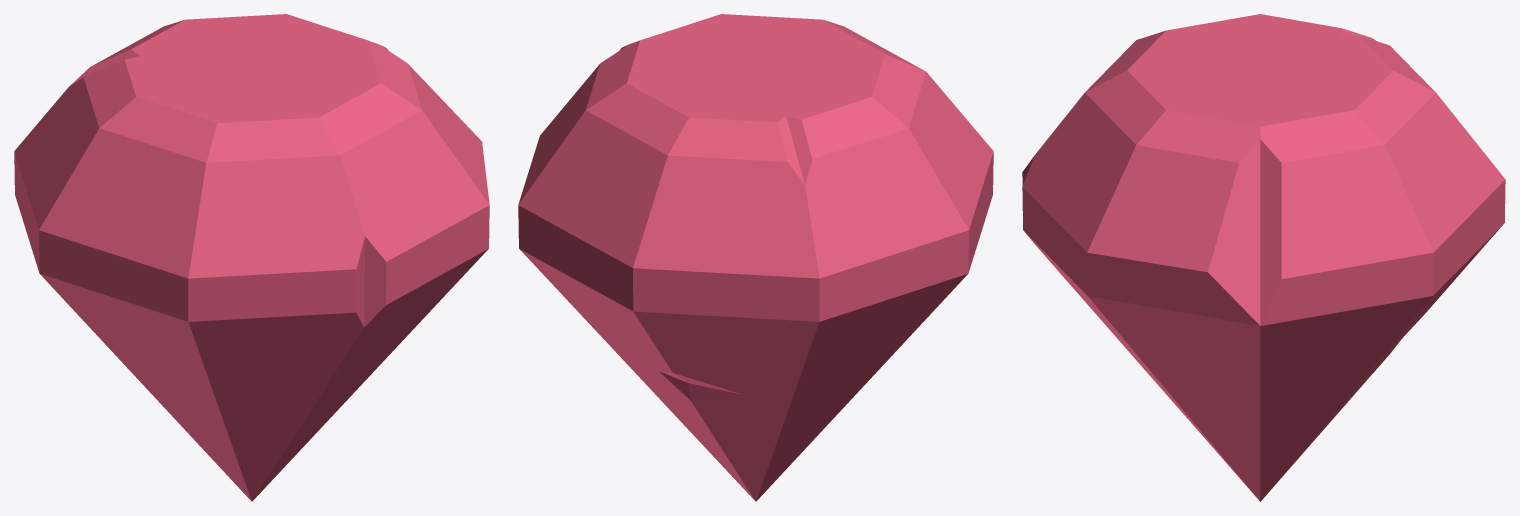
The model's file is Diamond.fbx.
3 views of the same model, side by side, from view 1: azimuth 30°, elevation 25°; view 2: azimuth 150°, elevation 25°; view 3: azimuth 270°, elevation 25° (orthographic).
Visible parts, largest first — view 1: Diamond; view 2: Diamond; view 3: Diamond.
Part boxes in pixels (box(x1,y1,x2,y2)): Diamond: box(14, 14, 489, 501); Diamond: box(518, 14, 993, 501); Diamond: box(1022, 14, 1505, 501).
Bounding box in the file's own units: 42.89 × 41.73 × 42.33.
